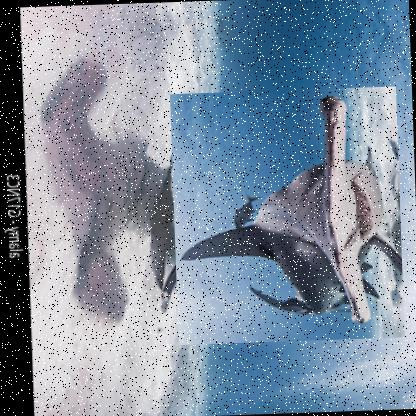hammerhead_Shark: (169, 84, 405, 344)
